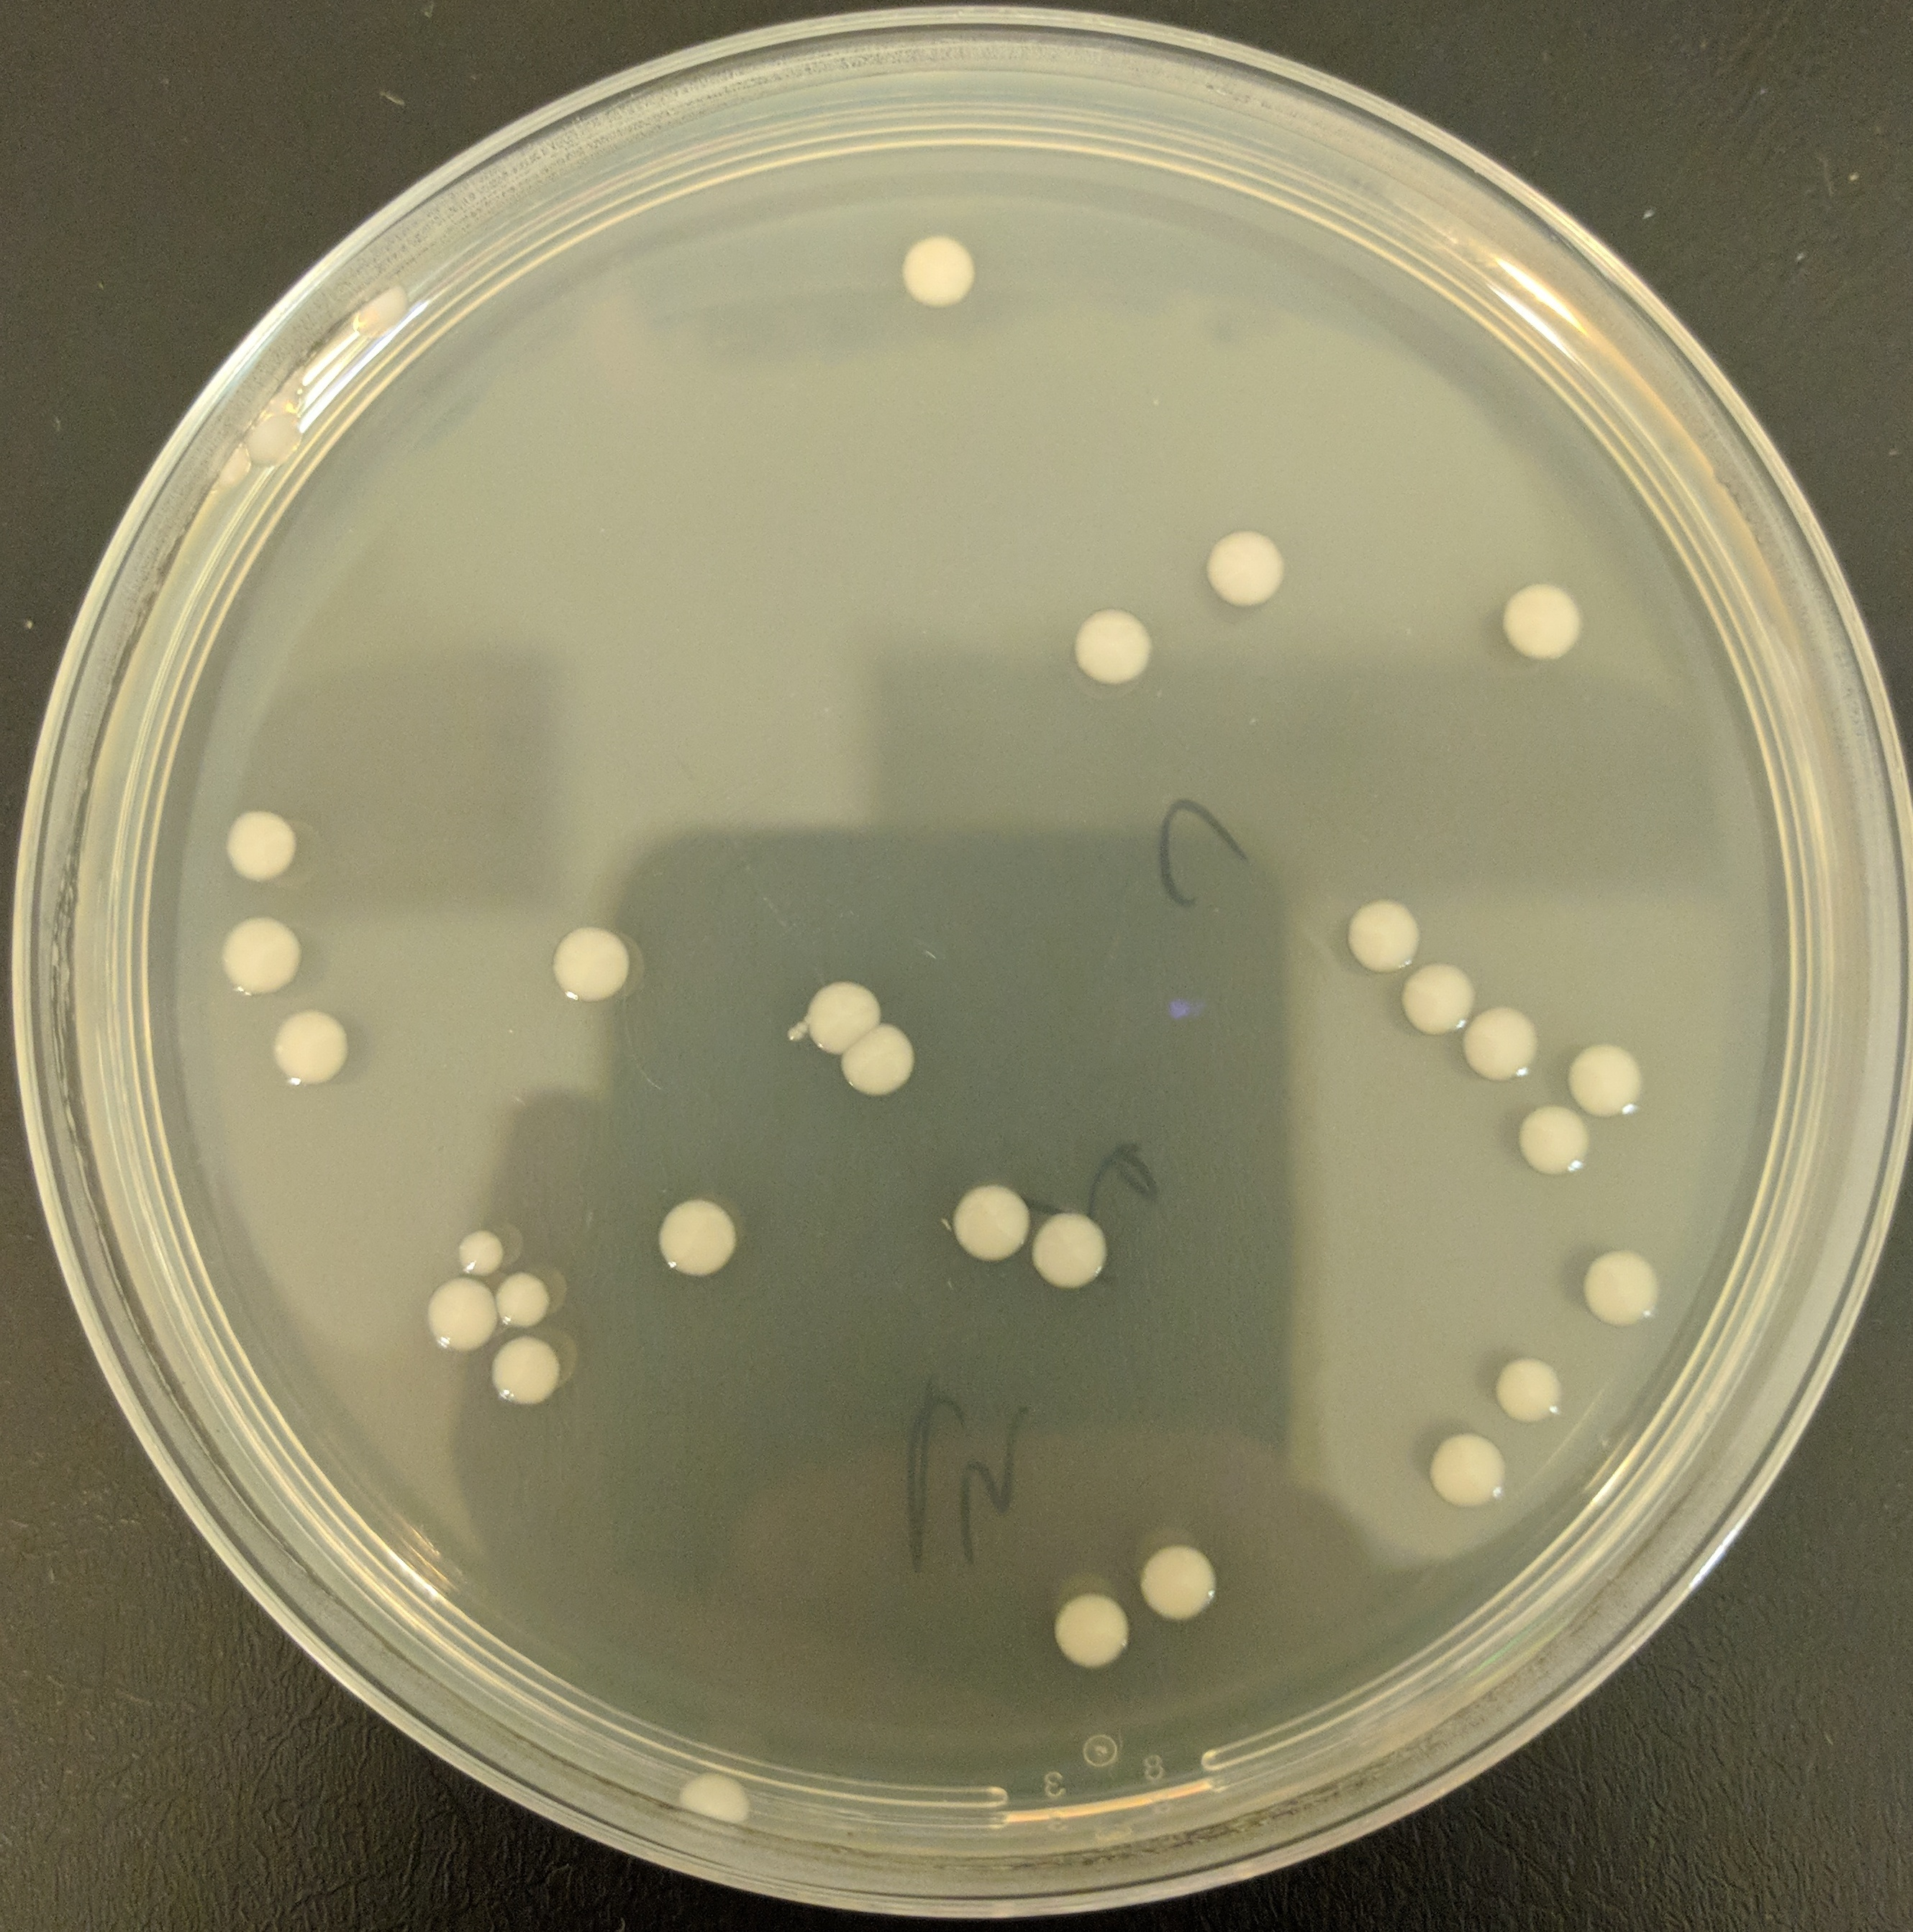sp20: (205, 906, 321, 1005), (1125, 1526, 1235, 1627), (641, 1184, 757, 1280), (892, 217, 988, 328), (1417, 1412, 1514, 1522), (547, 914, 646, 1019), (1063, 592, 1163, 694), (1461, 986, 1557, 1091), (949, 1170, 1041, 1280), (1498, 568, 1594, 669), (261, 1000, 357, 1096), (792, 967, 885, 1067), (655, 1748, 760, 1836), (1480, 1340, 1575, 1436), (1025, 1200, 1116, 1300), (1570, 1242, 1666, 1333), (219, 800, 315, 892), (1342, 878, 1424, 983), (1205, 517, 1291, 617), (830, 1018, 921, 1111), (1044, 1582, 1140, 1669), (1514, 1095, 1610, 1181), (1394, 942, 1472, 1049), (480, 1331, 571, 1419), (419, 1270, 505, 1352), (480, 1259, 562, 1342), (1570, 1033, 1638, 1125), (242, 391, 312, 478), (342, 282, 419, 345), (461, 1217, 510, 1280), (210, 440, 259, 503)
